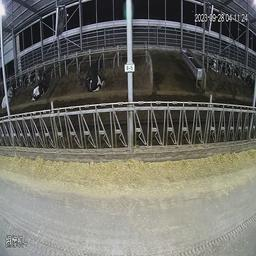cow: (85, 60, 105, 93), (32, 74, 48, 101), (1, 86, 15, 109), (219, 57, 231, 80), (207, 55, 220, 74), (27, 69, 40, 87)
